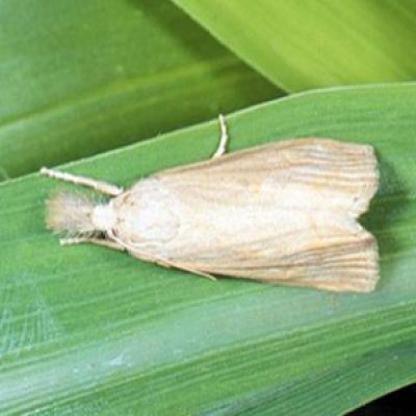stem-borer: (36, 108, 384, 298)
